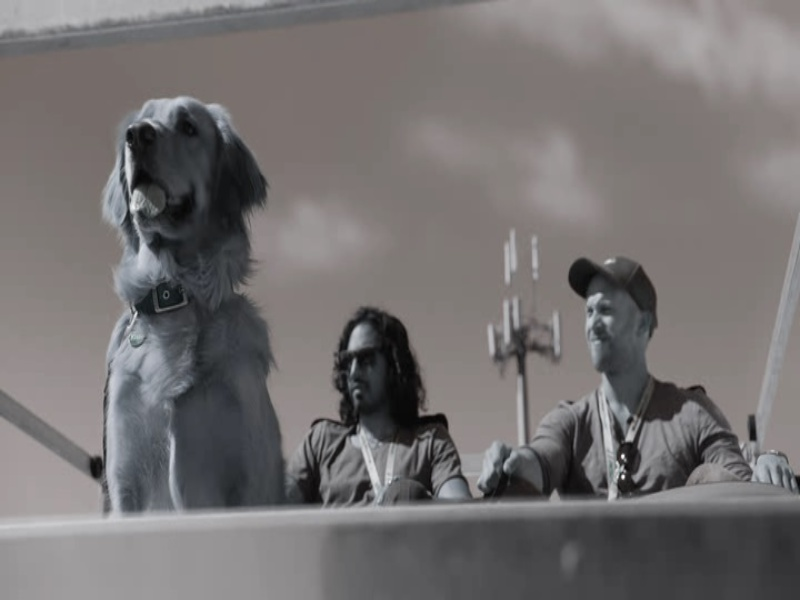TsisyArotava: (564, 252, 660, 391), (318, 306, 421, 428)
